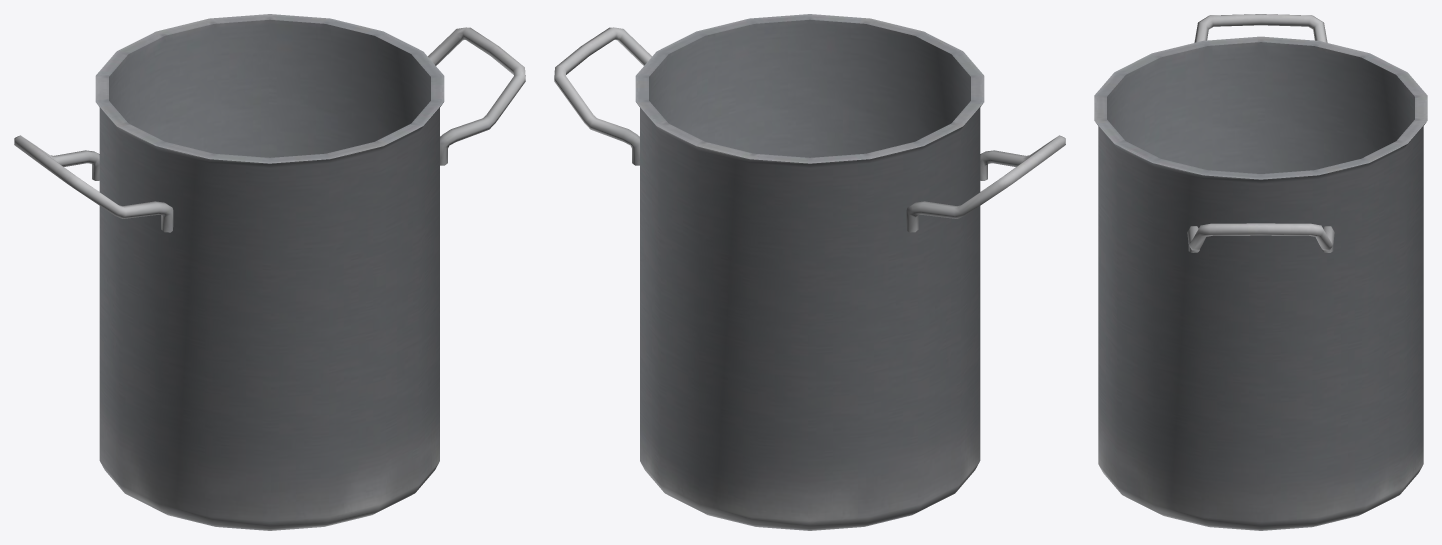
The model's file is SM_Pot_04.glb.
The picture shows the model from 3 angles, left to right: view 1: azimuth 30°, elevation 25°; view 2: azimuth 150°, elevation 25°; view 3: azimuth 270°, elevation 25°; orthographic projection. The views are drawn at different scales.
Visible parts, largest first — view 1: SM_Pot_04; view 2: SM_Pot_04; view 3: SM_Pot_04.
Boxes of the visible parts, bbox=[...] form: SM_Pot_04: bbox=[14, 14, 525, 530]; SM_Pot_04: bbox=[554, 14, 1065, 530]; SM_Pot_04: bbox=[1094, 14, 1427, 530].
Size of the model in its own units: 0.4167 by 0.3247 by 0.2736.
Materials: 1 (1 with a texture image).
